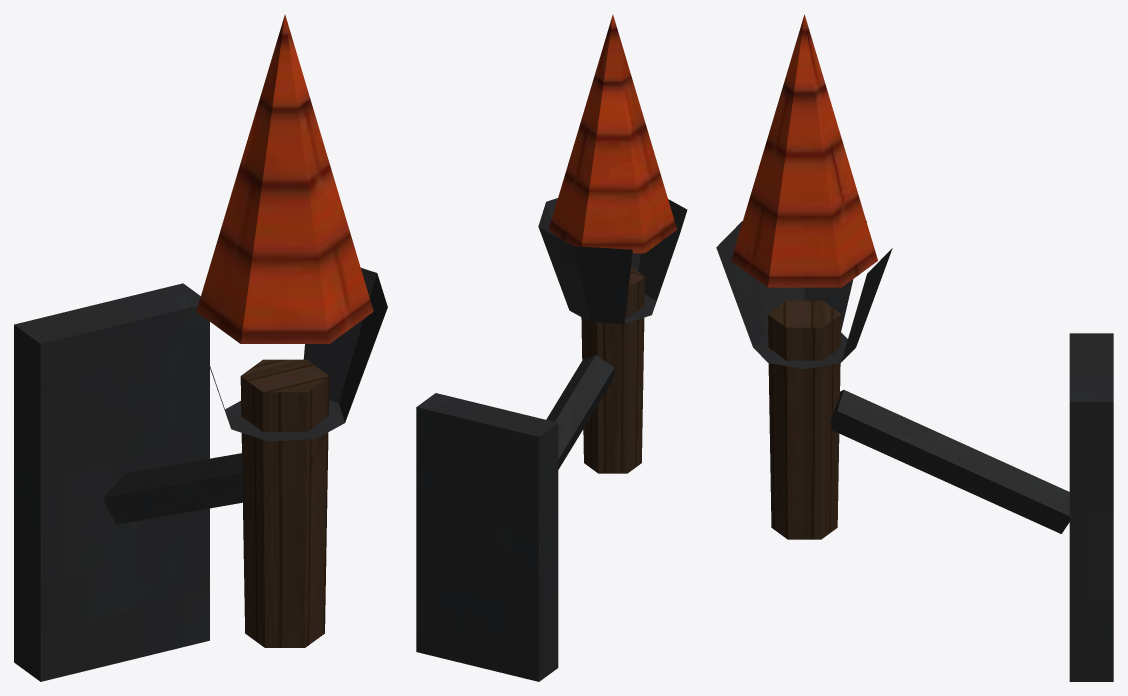
The model's file is torch_wall_01.glb.
The picture shows the model from 3 angles, left to right: view 1: azimuth 30°, elevation 25°; view 2: azimuth 150°, elevation 25°; view 3: azimuth 270°, elevation 25°; orthographic projection. The views are drawn at different scales.
Parts seen in each view (by area): view 1: torch_wall_01; view 2: torch_wall_01; view 3: torch_wall_01.
Part boxes in pixels (x1=…): torch_wall_01: x1=14, y1=14, x2=387, y2=681; torch_wall_01: x1=416, y1=14, x2=687, y2=681; torch_wall_01: x1=716, y1=14, x2=1113, y2=681.
Bounding box in the file's own units: 0.24 × 0.95 × 0.54.
Materials: 3 (3 with a texture image).
